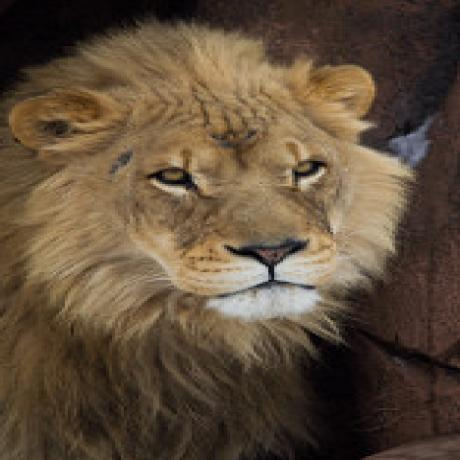Lion: (0, 9, 422, 460)
